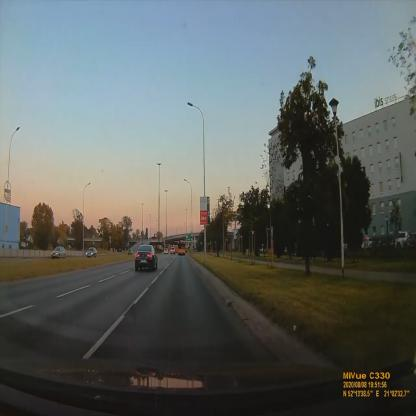cars: (134, 245, 158, 271), (51, 247, 66, 259), (86, 247, 97, 258), (170, 247, 175, 255), (164, 248, 168, 254), (128, 249, 132, 254)
